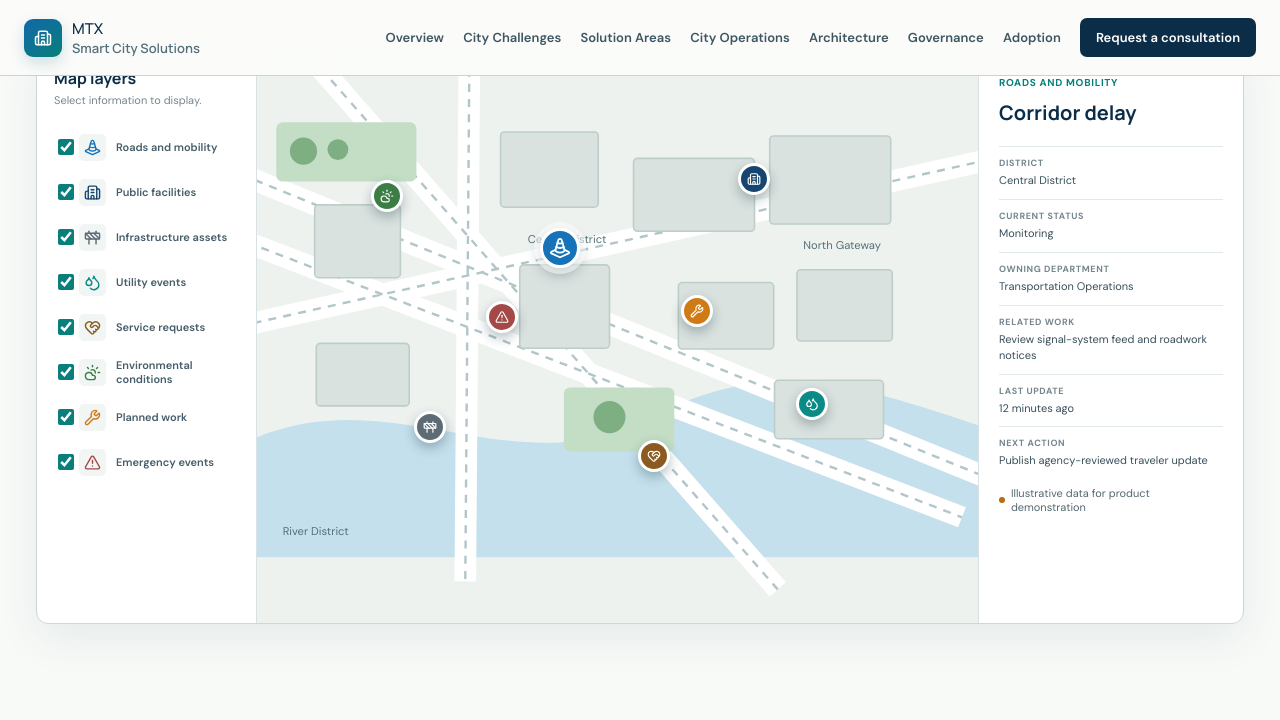
Test case: MTX Smart City prototype › filters and selects fictional map events
This screenshot has width=1280, height=720.
(page scrolled)
Click the button named "Water service issue in East Commons": x=812, y=404 [796,388,828,420]
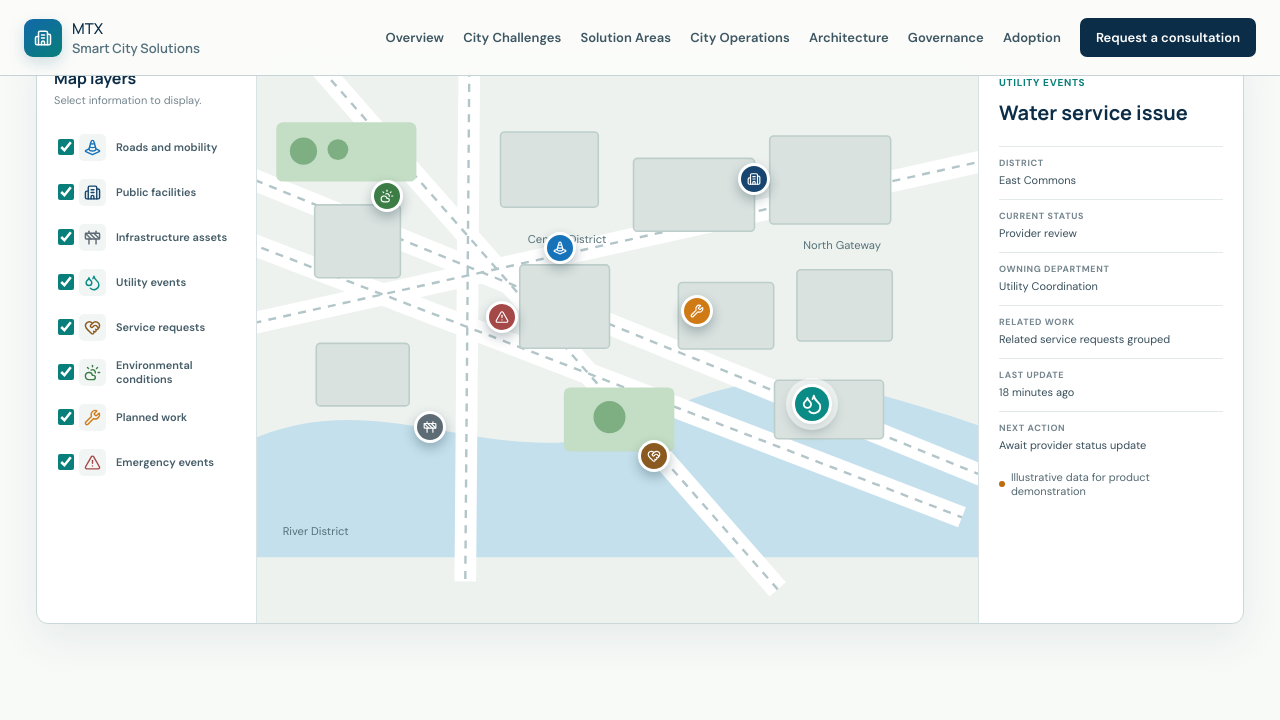
Check: the text "Provider review" is shown, box [999,226,1077,240]
Check: the text "Utility Coordination" is shown, box [999,279,1098,293]
Click the checkbox labelled "Utility events": x=66, y=282 [58,274,74,290]
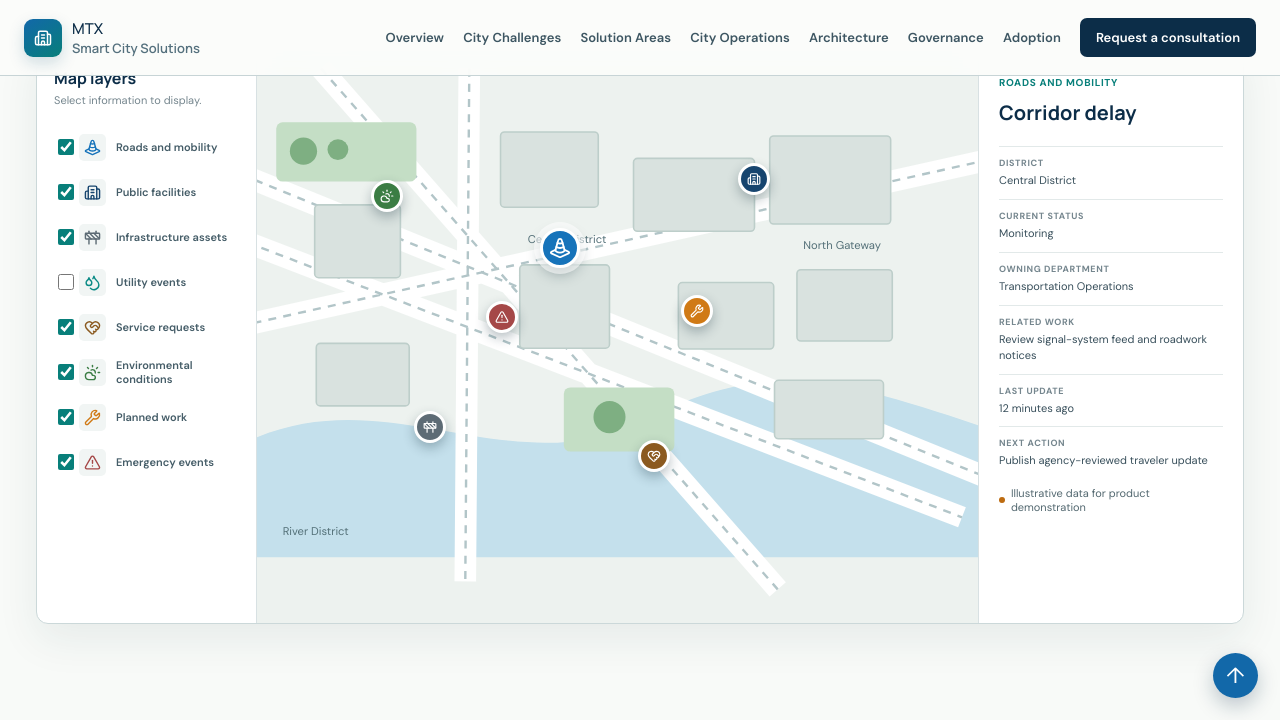
Check: the text "Provider review" is gone
